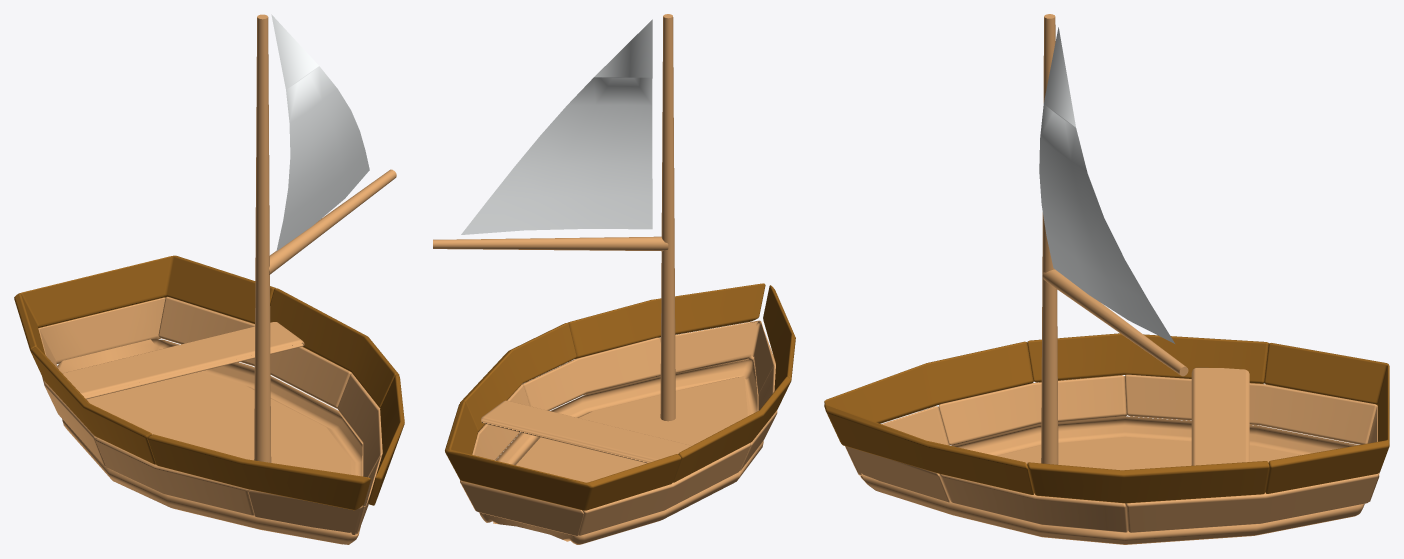
Rendered from smallboat.glb.
3 views of the same model, side by side, from view 1: azimuth 30°, elevation 25°; view 2: azimuth 150°, elevation 25°; view 3: azimuth 270°, elevation 25° (orthographic). The views are drawn at different scales.
Visible parts, largest first — view 1: Boat, Boat.003, Boat.001, Plane, Vert, Boat.002, Plane.002; view 2: Boat, Plane, Boat.003, Boat.001, Vert, Boat.002, Plane.002; view 3: Boat, Boat.003, Plane, Boat.002, Vert, Plane.002, Boat.001.
Part boxes in pixels (<box>): Boat: <box>14,255,404,510</box>; Boat.003: <box>38,297,382,535</box>; Boat.001: <box>86,371,351,474</box>; Plane: <box>271,14,369,251</box>; Vert: <box>254,14,396,462</box>; Boat.002: <box>57,339,363,544</box>; Plane.002: <box>62,322,304,399</box>; Boat: <box>445,283,795,510</box>; Plane: <box>461,19,652,234</box>; Boat.003: <box>460,320,777,535</box>; Boat.001: <box>493,376,747,541</box>; Vert: <box>433,14,675,421</box>; Boat.002: <box>479,356,763,544</box>; Plane.002: <box>481,400,691,463</box>; Boat: <box>824,333,1389,503</box>; Boat.003: <box>845,374,1379,532</box>; Plane: <box>1039,27,1174,343</box>; Boat.002: <box>860,416,1364,544</box>; Vert: <box>1041,14,1188,464</box>; Plane.002: <box>1191,367,1249,465</box>; Boat.001: <box>997,437,1301,470</box>.
Bounding box in the file's own units: 3.68 × 4.82 × 5.2.
